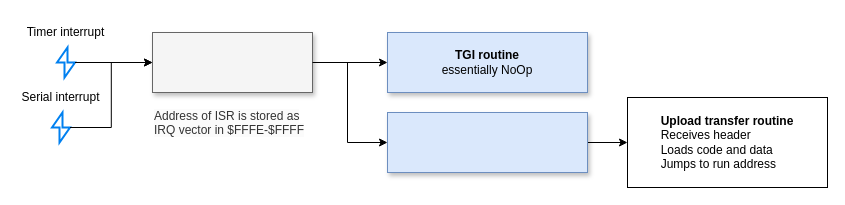
The diagram is 845 pixels wide and 205 high, and some of its shapes have lost their labels. Here are the shapes that lost their labels. From the top down, the centre of each, then its label:
the point at 233,64: Interrupt Service Routine
the point at 488,144: Serial IRQ handler checks for $81, $50
